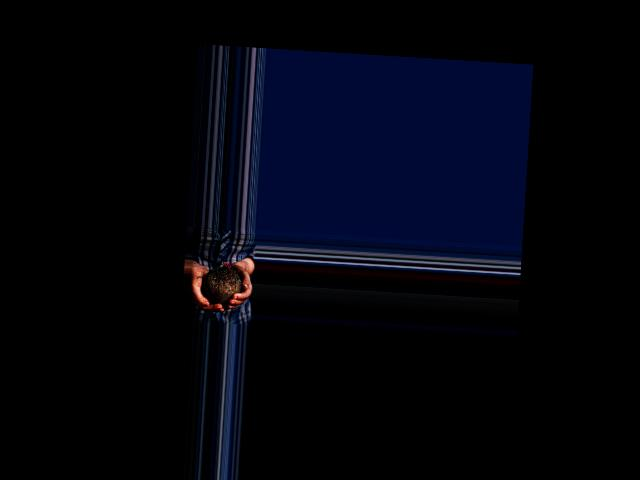beet: (201, 259, 242, 305)
